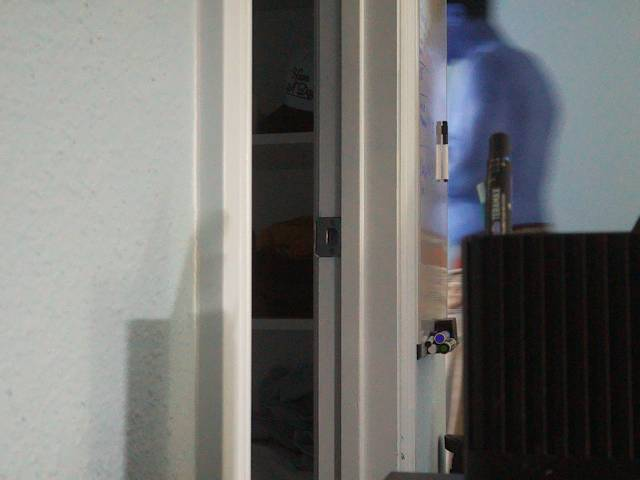boulder: (447, 66, 467, 134), (434, 64, 446, 122)
crater: (396, 138, 635, 377), (181, 132, 396, 347), (185, 0, 366, 180), (414, 43, 569, 198), (212, 317, 366, 471), (444, 98, 587, 241), (187, 217, 318, 348), (237, 279, 365, 407), (197, 29, 320, 152), (222, 106, 344, 228), (222, 358, 343, 480), (431, 264, 552, 385), (248, 230, 365, 347)
shadow: (447, 0, 496, 45)
